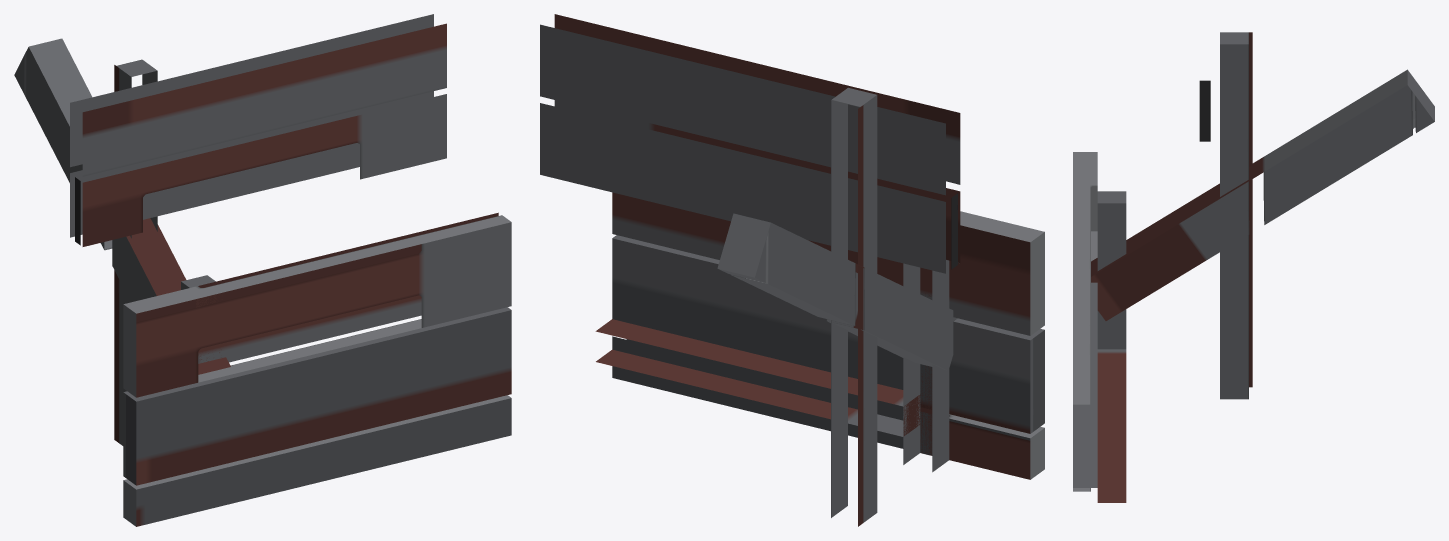
File: section-0.obj
3 views of the same model, side by side, from view 1: azimuth 30°, elevation 25°; view 2: azimuth 150°, elevation 25°; view 3: azimuth 270°, elevation 25° (orthographic). The views are drawn at different scales.
Bounding box in the file's own units: 1 × 0.96 × 0.8864.
